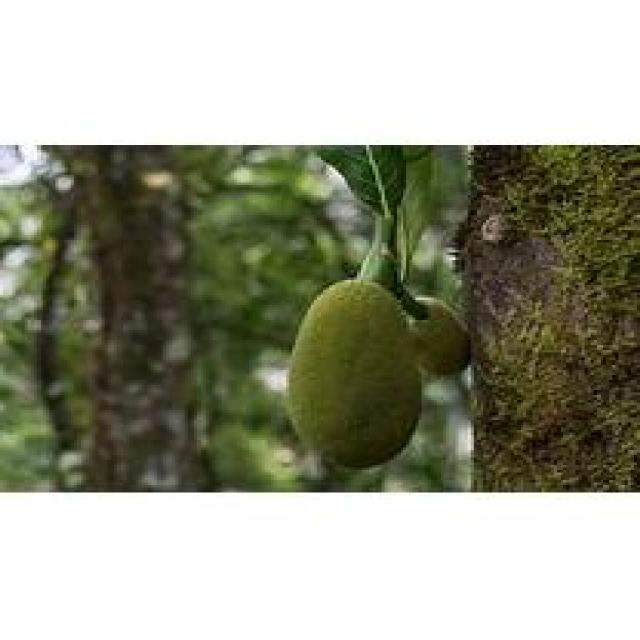fruit: (99, 178, 486, 492)
